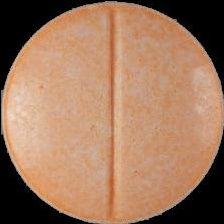0615-7761: (0, 0, 224, 224)
